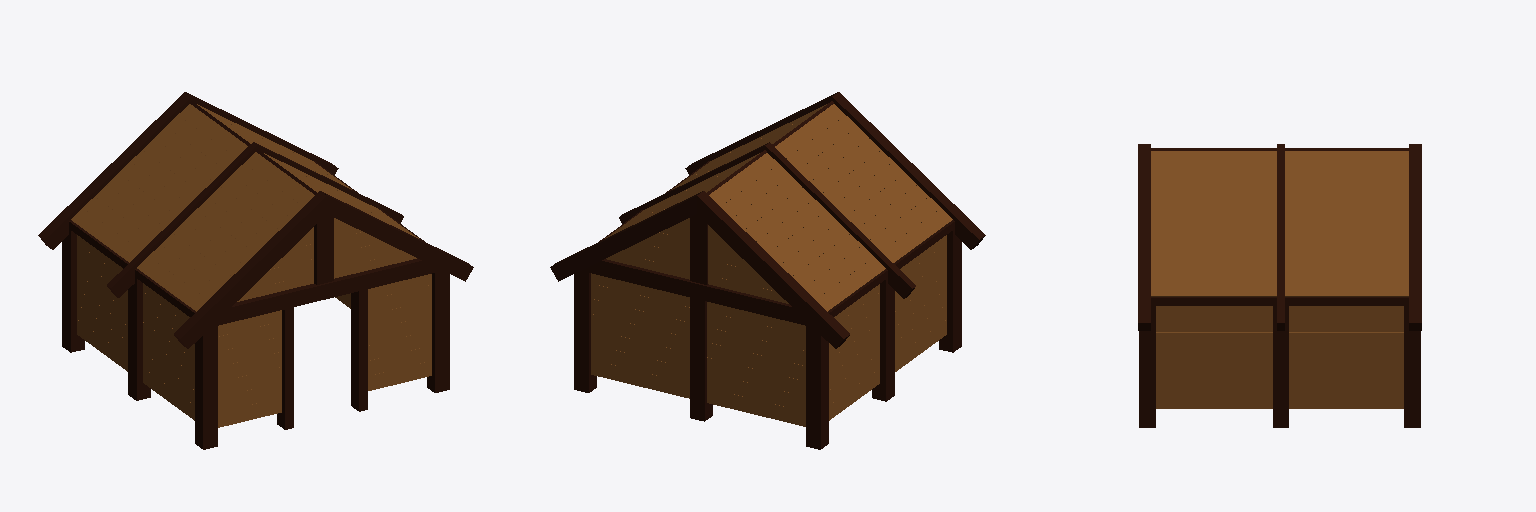
Rendered from Storehouse1Full.obj.
3 renders of one model, left to right at view 1: azimuth 30°, elevation 25°; view 2: azimuth 150°, elevation 25°; view 3: azimuth 270°, elevation 25°, orthographic.
Visible parts, largest first — view 1: 032.PlankRoof.003_Cube.129, 033.PlankRoof.004_Cube.128, 009.PlankWall.Short.001_Cube.033, 010.PlankWall.Short.002_Cube.032, 011.PlankWall.001_Cube.149, 012.PlankWall.002_Cube.150, 024.Beam.GableAngled.001_Cube.034, 017.Beam.GableBase.001_Cube.042, 008.Beam.Door.002_Cube.162, 025.Beam.GableAngled.002_Cube.036, 027.Beam.GableAngled.005_Cube.081, 001.Beam.Wall.001_Cube.002 (+12 smaller); view 2: 032.PlankRoof.003_Cube.129, 033.PlankRoof.004_Cube.128, 016.PlankWall.006_Cube.160, 015.PlankWall.005_Cube.159, 011.PlankWall.001_Cube.149, 012.PlankWall.002_Cube.150, 027.Beam.GableAngled.005_Cube.081, 020.Beam.GableBase.003_Cube.082, 026.Beam.GableAngled.003_Cube.080, 024.Beam.GableAngled.001_Cube.034, 004.Beam.Wall.005_Cube.079, 038.GablePlank.003_Cube.144 (+12 smaller); view 3: 030.PlankRoof.001_Cube.050, 031.PlankRoof.002_Cube.127, 013.PlankWall.003_Cube.145, 014.PlankWall.004_Cube.148, 025.Beam.GableAngled.002_Cube.036, 026.Beam.GableAngled.003_Cube.080, 019.Beam.WallTop.001_Cube.044, 002.Beam.Wall.002_Cube.004, 003.Beam.Wall.004_Cube.078, 005.Beam.Wall.006_Cube.057, 028.Beam.TrussAngled.001_Cube.035, 034.Beam.RoofTop.003_Cube.131.
Boxes of the visible parts, x1=… form: 032.PlankRoof.003_Cube.129: x1=137, y1=152, x2=314, y2=311; 033.PlankRoof.004_Cube.128: x1=71, y1=104, x2=247, y2=262; 009.PlankWall.Short.001_Cube.033: x1=218, y1=310, x2=281, y2=427; 010.PlankWall.Short.002_Cube.032: x1=368, y1=274, x2=431, y2=390; 011.PlankWall.001_Cube.149: x1=143, y1=283, x2=194, y2=420; 012.PlankWall.002_Cube.150: x1=77, y1=235, x2=127, y2=371; 024.Beam.GableAngled.001_Cube.034: x1=174, y1=191, x2=326, y2=348; 017.Beam.GableBase.001_Cube.042: x1=214, y1=258, x2=439, y2=326; 008.Beam.Door.002_Cube.162: x1=277, y1=289, x2=367, y2=429; 025.Beam.GableAngled.002_Cube.036: x1=321, y1=191, x2=473, y2=281; 027.Beam.GableAngled.005_Cube.081: x1=38, y1=92, x2=191, y2=249; 001.Beam.Wall.001_Cube.002: x1=195, y1=325, x2=217, y2=449; 032.PlankRoof.003_Cube.129: x1=775, y1=104, x2=952, y2=262; 033.PlankRoof.004_Cube.128: x1=709, y1=153, x2=885, y2=311; 016.PlankWall.006_Cube.160: x1=707, y1=302, x2=805, y2=426; 015.PlankWall.005_Cube.159: x1=591, y1=273, x2=689, y2=398; 011.PlankWall.001_Cube.149: x1=895, y1=235, x2=946, y2=371; 012.PlankWall.002_Cube.150: x1=829, y1=284, x2=879, y2=420; 027.Beam.GableAngled.005_Cube.081: x1=697, y1=191, x2=849, y2=348; 020.Beam.GableBase.003_Cube.082: x1=584, y1=259, x2=809, y2=326; 026.Beam.GableAngled.003_Cube.080: x1=550, y1=191, x2=702, y2=281; 024.Beam.GableAngled.001_Cube.034: x1=832, y1=92, x2=985, y2=249; 004.Beam.Wall.005_Cube.079: x1=806, y1=325, x2=828, y2=449; 038.GablePlank.003_Cube.144: x1=606, y1=218, x2=689, y2=279; 030.PlankRoof.001_Cube.050: x1=1151, y1=151, x2=1276, y2=296; 031.PlankRoof.002_Cube.127: x1=1285, y1=151, x2=1408, y2=296; 013.PlankWall.003_Cube.145: x1=1156, y1=306, x2=1272, y2=408; 014.PlankWall.004_Cube.148: x1=1289, y1=306, x2=1403, y2=408; 025.Beam.GableAngled.002_Cube.036: x1=1138, y1=144, x2=1150, y2=330; 026.Beam.GableAngled.003_Cube.080: x1=1409, y1=144, x2=1421, y2=330; 019.Beam.WallTop.001_Cube.044: x1=1151, y1=297, x2=1408, y2=305; 002.Beam.Wall.002_Cube.004: x1=1139, y1=305, x2=1155, y2=427; 003.Beam.Wall.004_Cube.078: x1=1404, y1=306, x2=1420, y2=427; 005.Beam.Wall.006_Cube.057: x1=1273, y1=305, x2=1288, y2=427; 028.Beam.TrussAngled.001_Cube.035: x1=1277, y1=144, x2=1284, y2=330; 034.Beam.RoofTop.003_Cube.131: x1=1151, y1=148, x2=1408, y2=150.
Bounding box in the file's own units: 5.08 × 3.71 × 4.25.